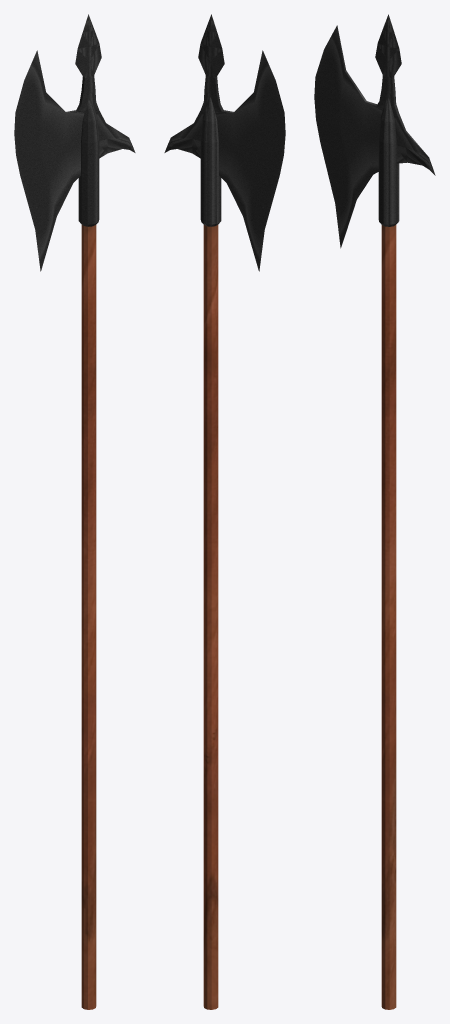
Rendered from hellebarde.obj.
The picture shows the model from 3 angles, left to right: view 1: azimuth 30°, elevation 25°; view 2: azimuth 150°, elevation 25°; view 3: azimuth 330°, elevation 25°; orthographic projection.
Visible parts, largest first — view 1: hellebarde_richter_body_mesh.002; view 2: hellebarde_richter_body_mesh.002; view 3: hellebarde_richter_body_mesh.002.
Part boxes in pixels (left/top/right/bottom): hellebarde_richter_body_mesh.002: left=14, top=14, right=135, bottom=1009; hellebarde_richter_body_mesh.002: left=164, top=14, right=285, bottom=1009; hellebarde_richter_body_mesh.002: left=314, top=14, right=435, bottom=1009.
Size of the model in its own units: 0.322 by 2.52 by 0.0488.
Materials: 1 (1 with a texture image).
